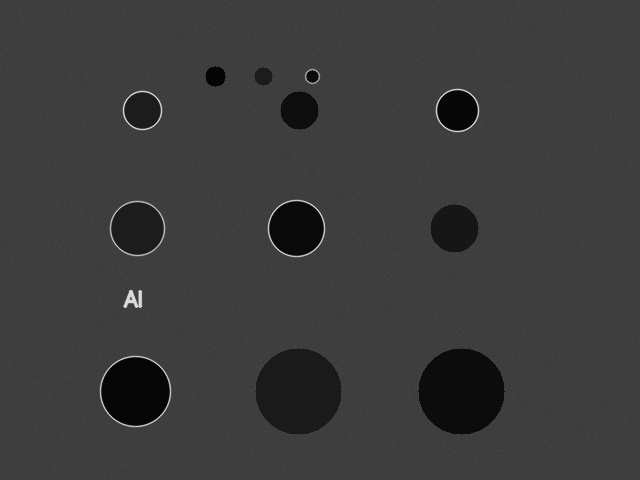hole: (255, 348, 341, 434), (418, 348, 504, 434), (100, 356, 170, 426), (268, 200, 324, 256), (110, 201, 164, 255), (430, 204, 478, 252), (436, 89, 478, 131), (123, 91, 161, 129), (280, 91, 318, 129), (205, 66, 225, 86), (254, 67, 272, 85), (305, 69, 319, 83)
